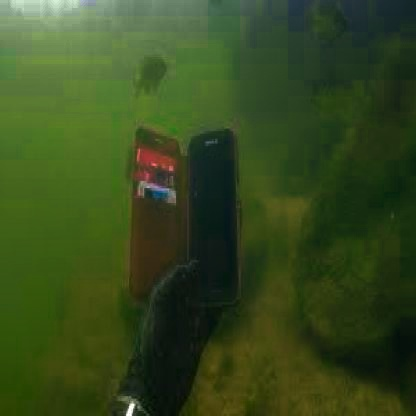cellphone: (187, 131, 243, 312)
